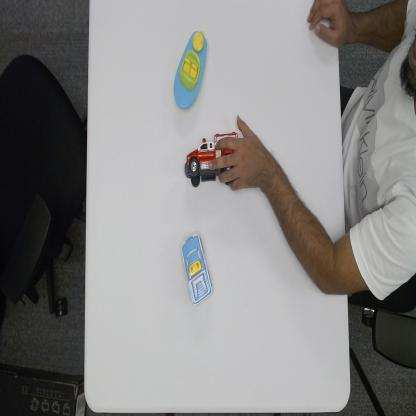Arm: (264, 162, 346, 297)
Boat: (173, 26, 208, 112)
Car: (179, 230, 214, 306)
Firetruck: (184, 129, 240, 188)
Hand: (208, 112, 262, 193), (306, 0, 338, 46)
